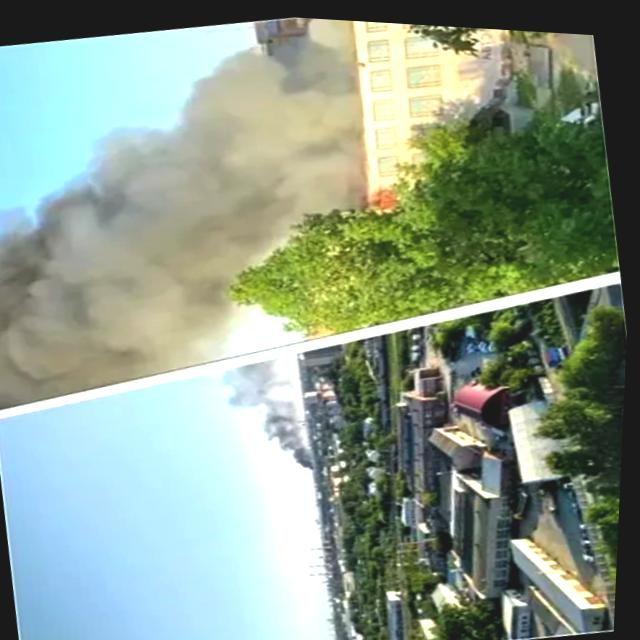Smoke: (0, 17, 398, 393), (225, 359, 323, 479)
